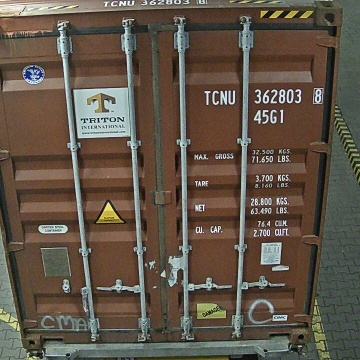serial_id: (204, 88, 323, 104)
